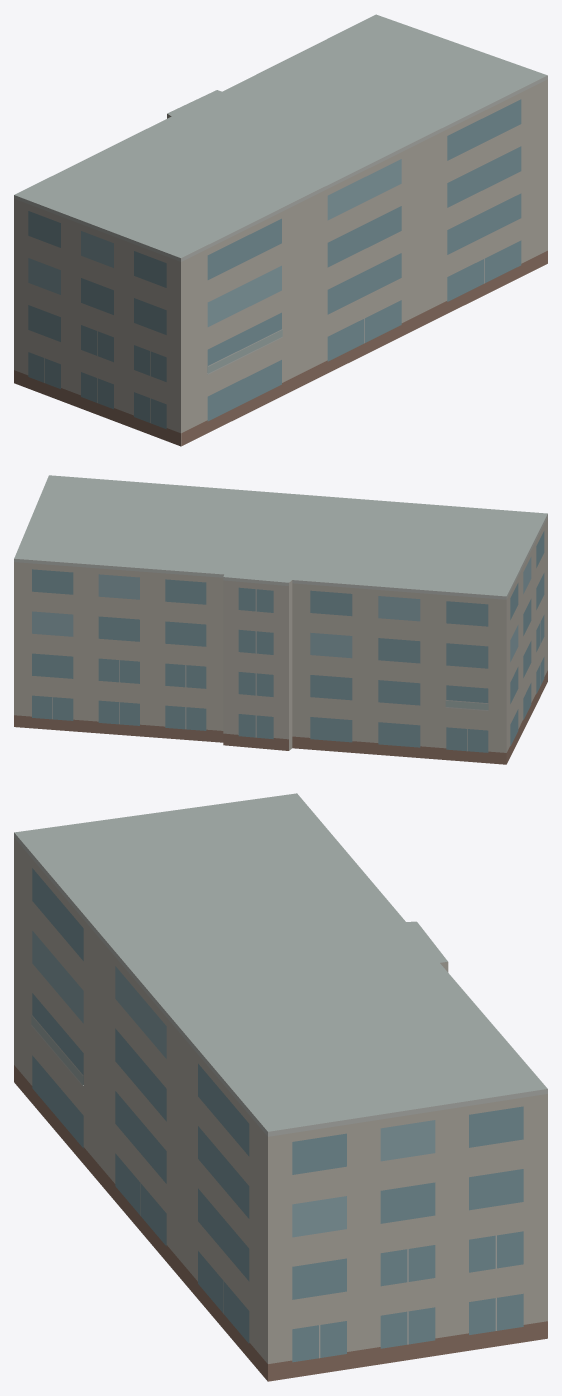
Rendered from survey-upis-32644535.glb.
The picture shows the model from 3 angles, top to bottom: view 1: azimuth 30°, elevation 25°; view 2: azimuth 150°, elevation 25°; view 3: azimuth 270°, elevation 25°; orthographic projection. The views are drawn at different scales.
Parts seen in each view (by area): view 1: survey-upis-32644535.tmp; view 2: survey-upis-32644535.tmp; view 3: survey-upis-32644535.tmp.
Part boxes in pixels (x1,y1,x2,y2): survey-upis-32644535.tmp: (14, 14, 547, 446); survey-upis-32644535.tmp: (14, 475, 547, 764); survey-upis-32644535.tmp: (14, 793, 547, 1381).
Bounding box in the file's own units: 35.48 × 12.2 × 23.64.
